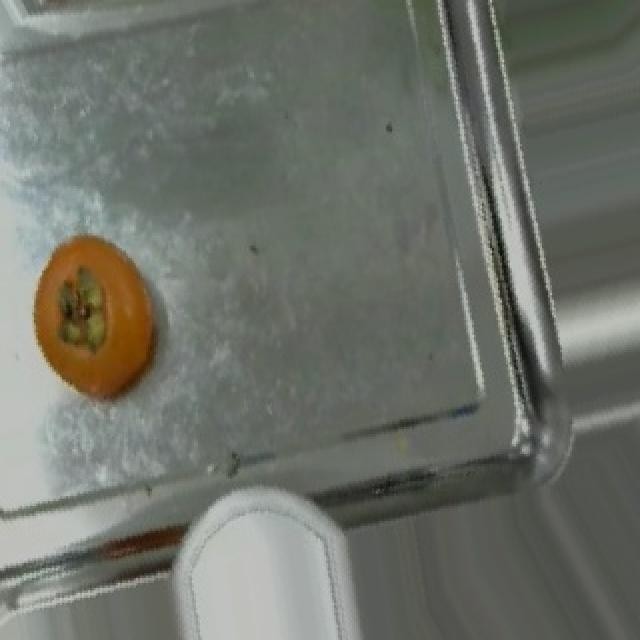Fruit: (164, 469, 384, 640), (10, 218, 180, 420), (16, 570, 230, 640)
